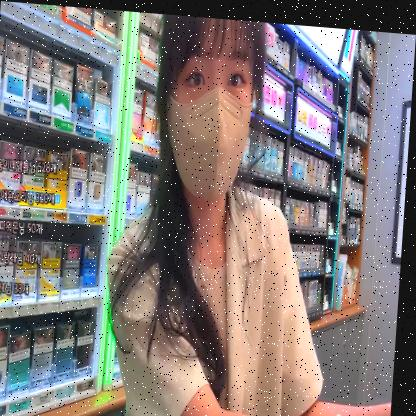streamer: (100, 8, 416, 416)
